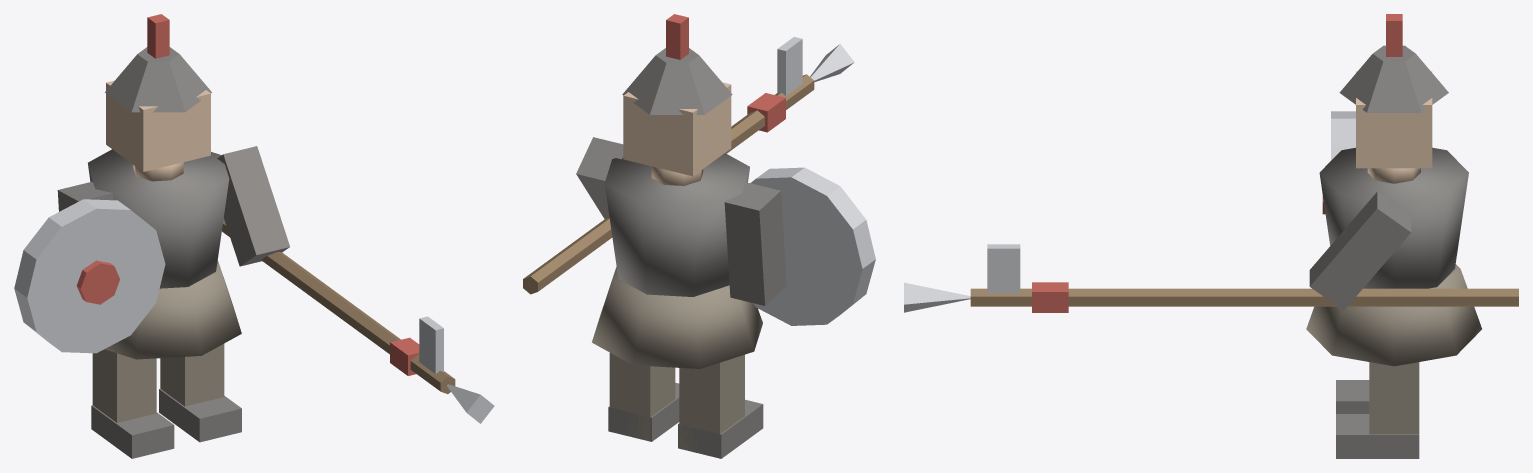
The model's file is troop-pikeman.glb.
3 renders of one model, left to right at view 1: azimuth 30°, elevation 25°; view 2: azimuth 150°, elevation 25°; view 3: azimuth 270°, elevation 25°, orthographic. The views are drawn at different scales.
Visible parts, largest first — view 1: shield_rim, body, skirt, head, arm_r, helmet, leg_l, pike, leg_r, foot_l, foot_r, shield_boss (+6 smaller); view 2: body, shield_rim, skirt, head, arm_l, leg_l, helmet, leg_r, pike, foot_l, arm_r, foot_r (+5 smaller); view 3: body, pike, skirt, arm_r, helmet, head, leg_r, foot_r, pike_blade, foot_l, pike_tip, pike_tassel (+3 smaller).
Boxes of the visible parts, x1,y1,x2,y2 form: shield_rim: (14, 199, 165, 353); body: (88, 149, 229, 288); skirt: (105, 260, 241, 359); head: (106, 80, 210, 171); arm_r: (217, 146, 289, 266); helmet: (105, 47, 211, 112); leg_l: (92, 349, 156, 422); pike: (222, 218, 455, 394); leg_r: (160, 344, 224, 406); foot_l: (91, 405, 174, 458); foot_r: (159, 388, 241, 442); shield_boss: (76, 260, 119, 304); body: (604, 153, 749, 296); shield_rim: (750, 167, 875, 325); skirt: (592, 267, 762, 368); head: (623, 82, 731, 176); arm_l: (724, 182, 786, 305); leg_l: (679, 354, 744, 454); helmet: (622, 48, 732, 114); leg_r: (609, 353, 675, 441); pike: (523, 74, 814, 294); foot_l: (678, 399, 763, 458); arm_r: (576, 137, 623, 218); foot_r: (608, 382, 679, 441); body: (1319, 147, 1468, 288); pike: (970, 288, 1518, 306); skirt: (1306, 264, 1481, 366); arm_r: (1309, 192, 1411, 310); helmet: (1339, 45, 1448, 112); head: (1356, 71, 1432, 168); leg_r: (1369, 362, 1419, 434); foot_r: (1336, 414, 1419, 458); pike_blade: (987, 244, 1020, 293); foot_l: (1336, 380, 1369, 413); pike_tip: (904, 282, 970, 312); pike_tassel: (1032, 282, 1068, 312).
Bounding box in the file's own units: 0.183 × 0.275 × 0.37.
